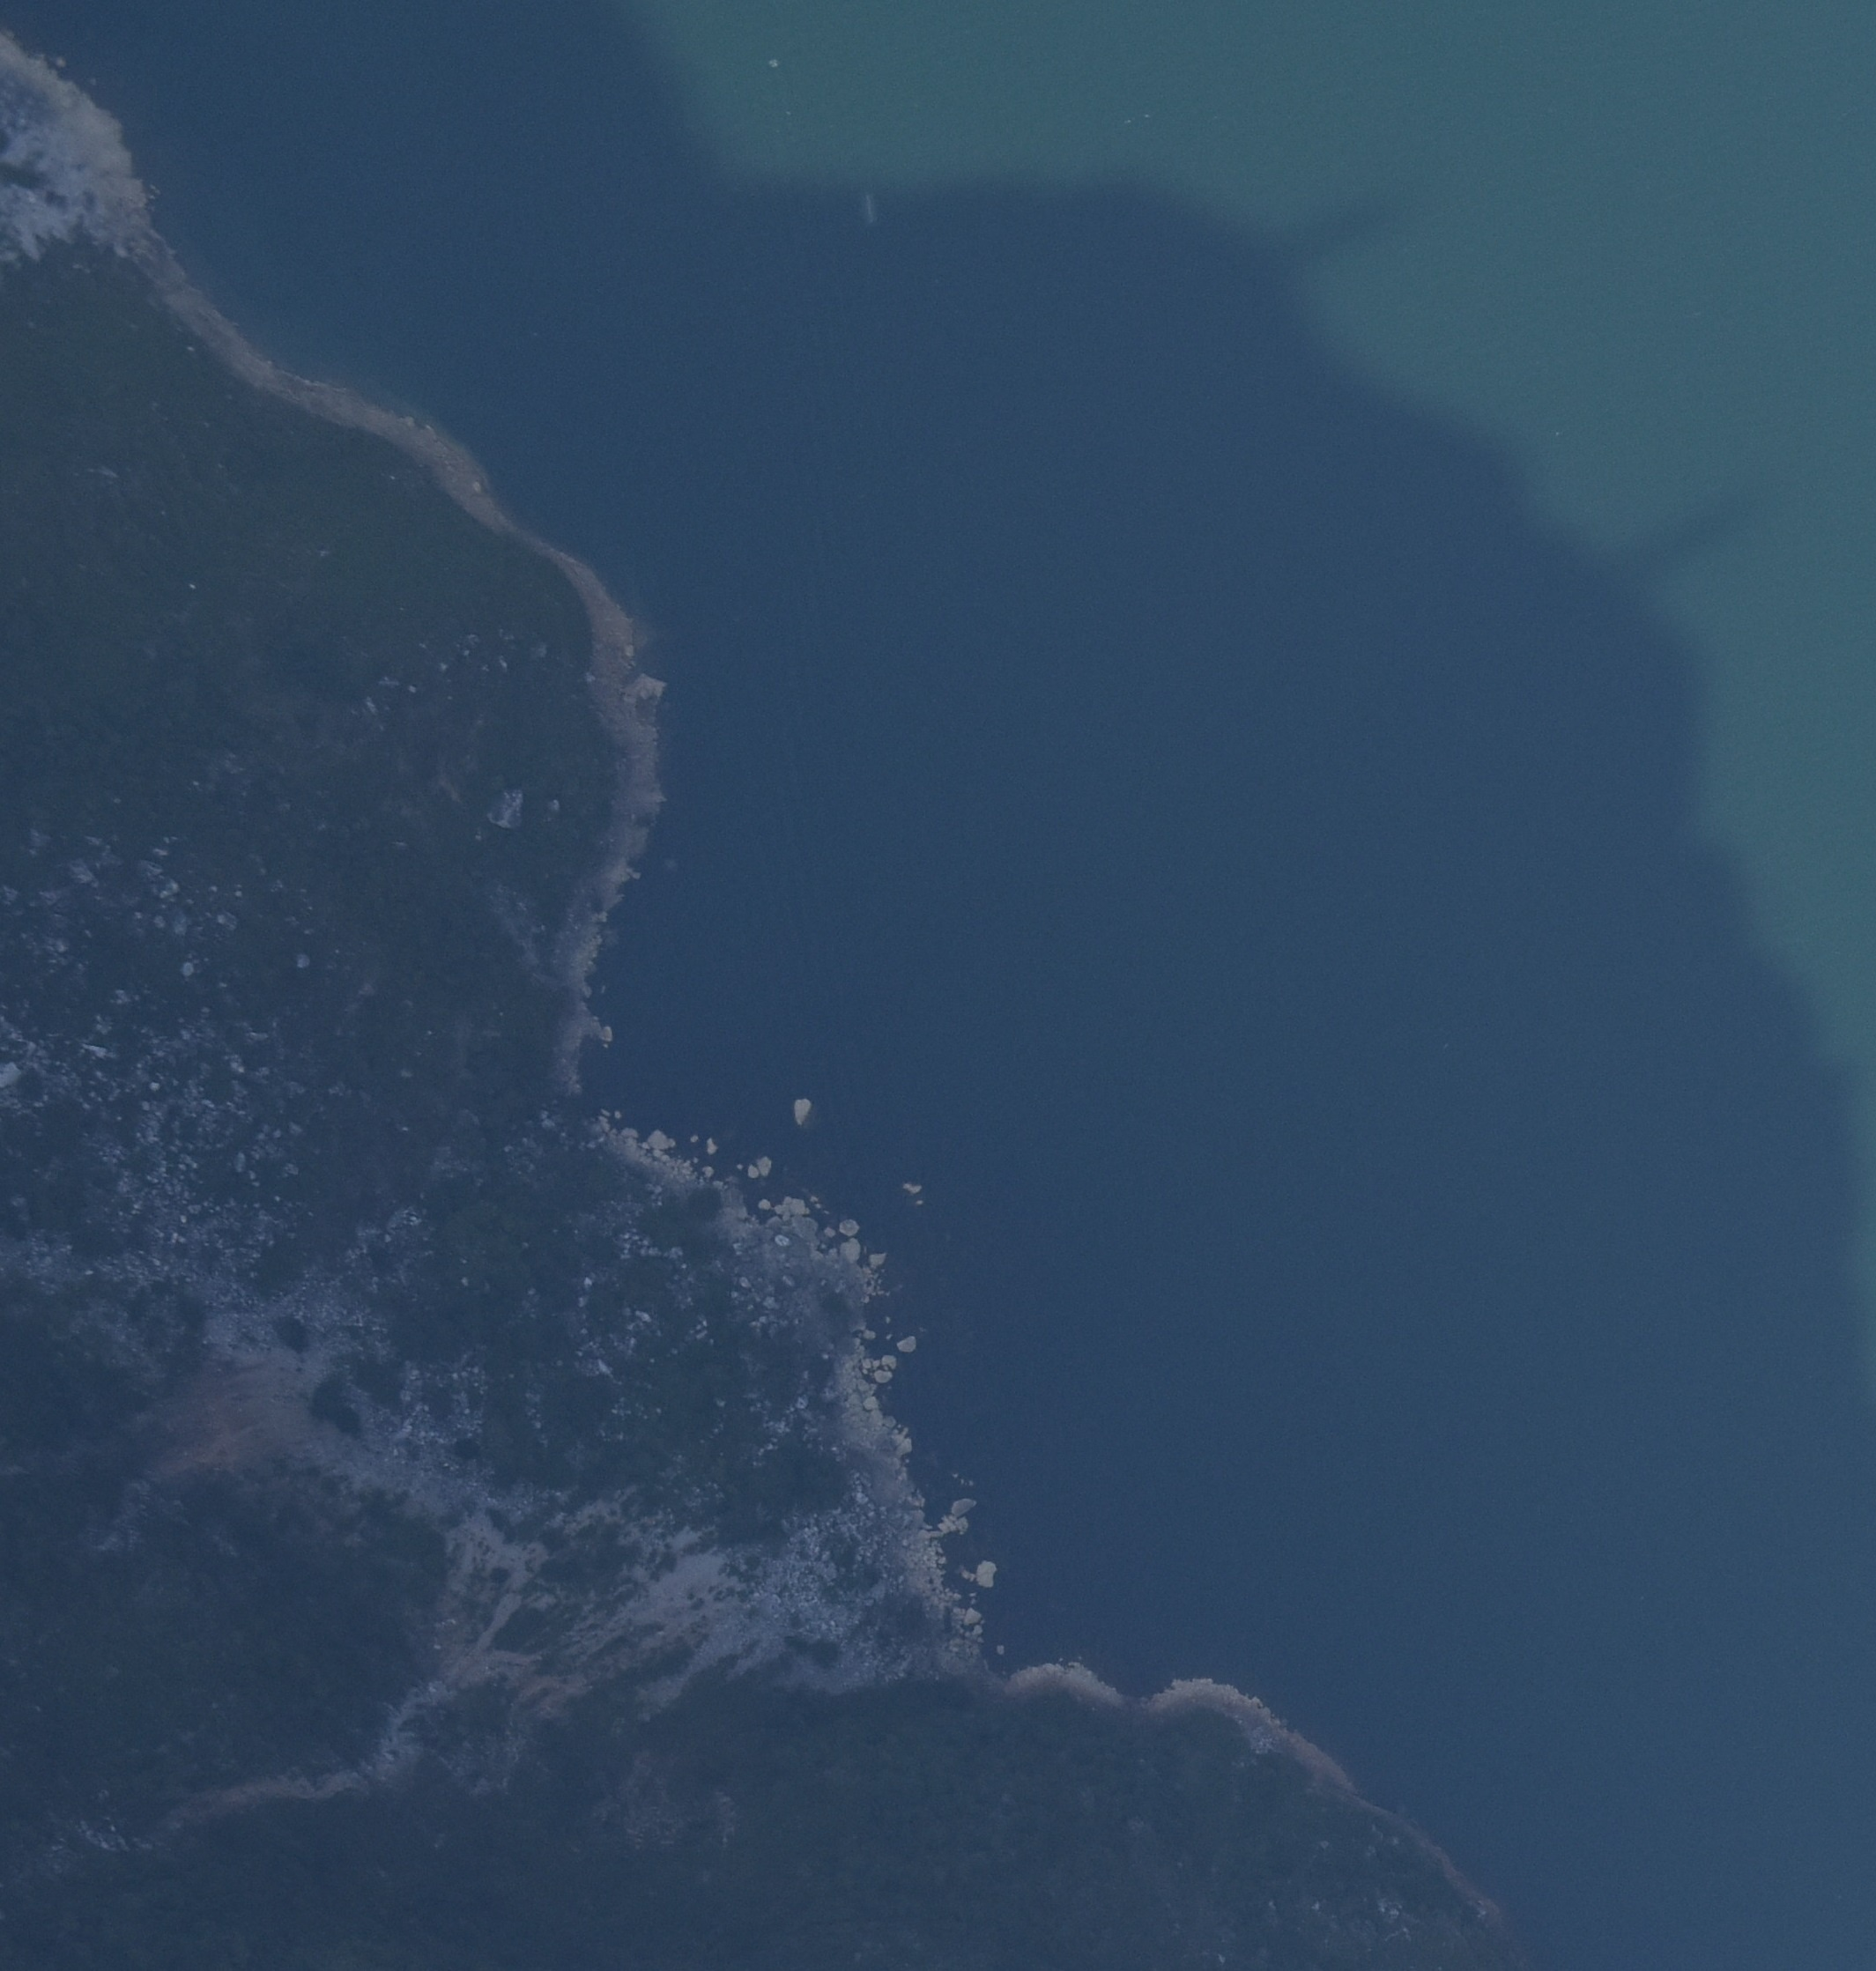landslide: (222, 1176, 978, 1739)
